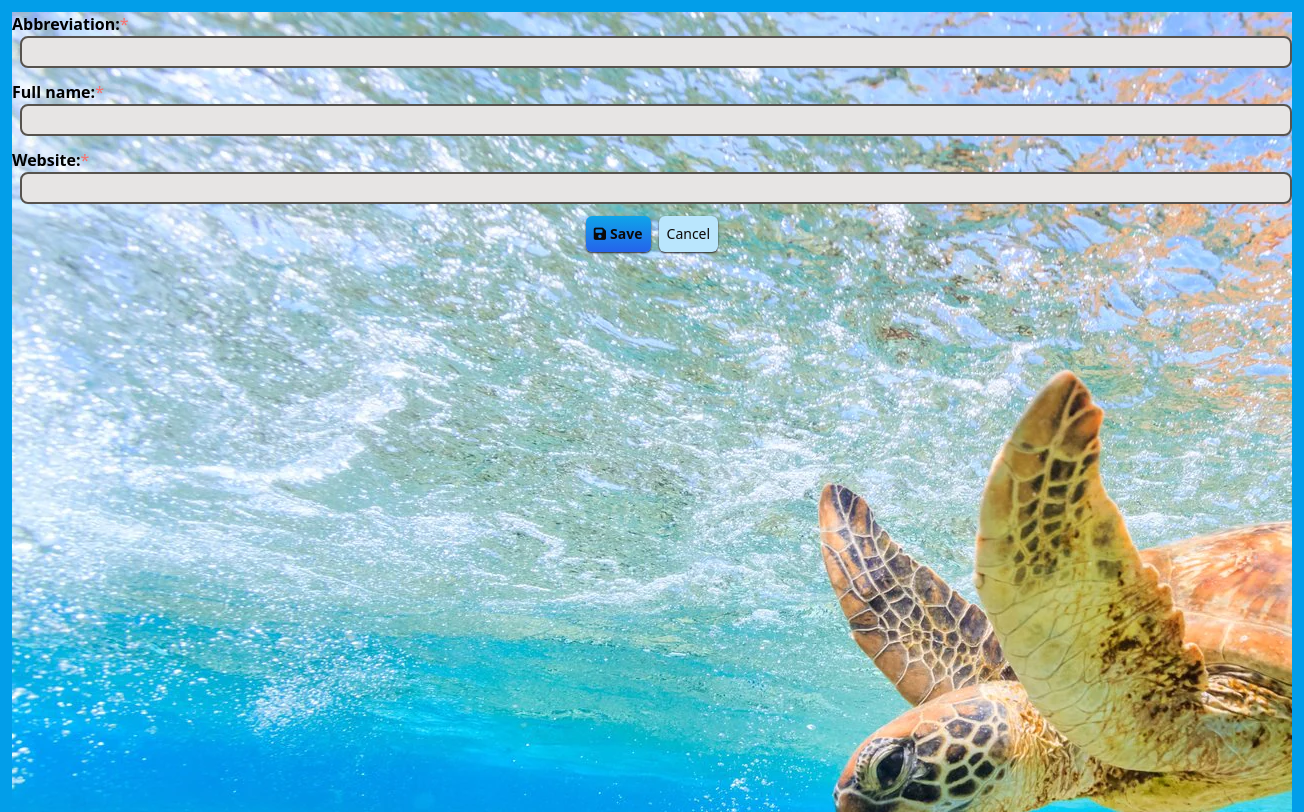
Scenario: EditAgency component › will validate for empty fields
Click the button with id "btn-save-agency".
click(618, 234)  # box [586,216,651,252]
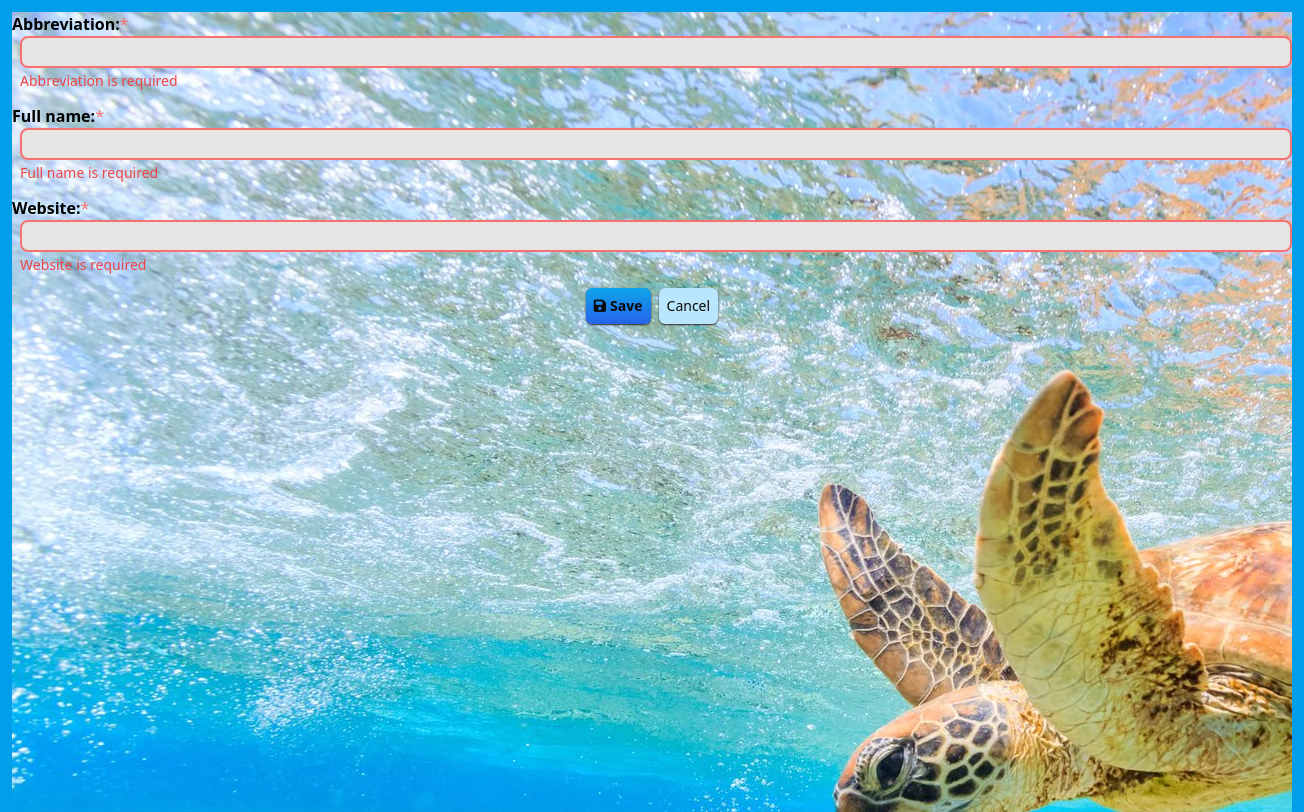
Check: the text with test id "agency-name-error" reads "Abbreviation is required", box [20,71,178,90]
Check: the text with test id "agency-long-name-error" reads "Full name is required", box [20,163,158,182]
Check: the text with test id "agency-website-error" reads "Website is required", box [20,255,146,274]
